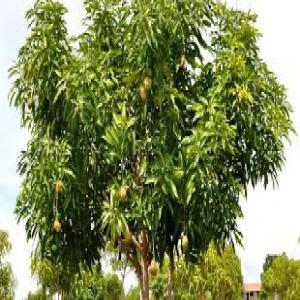Tree: (9, 0, 297, 286)
